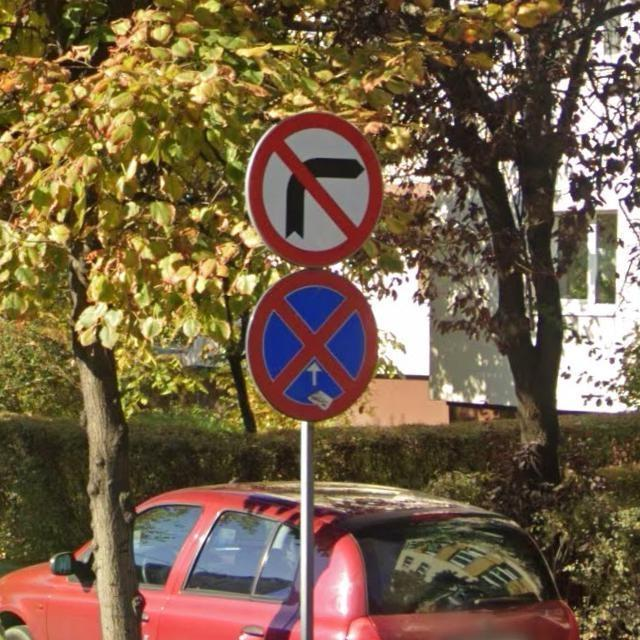forb_waiting: (248, 271, 378, 420)
